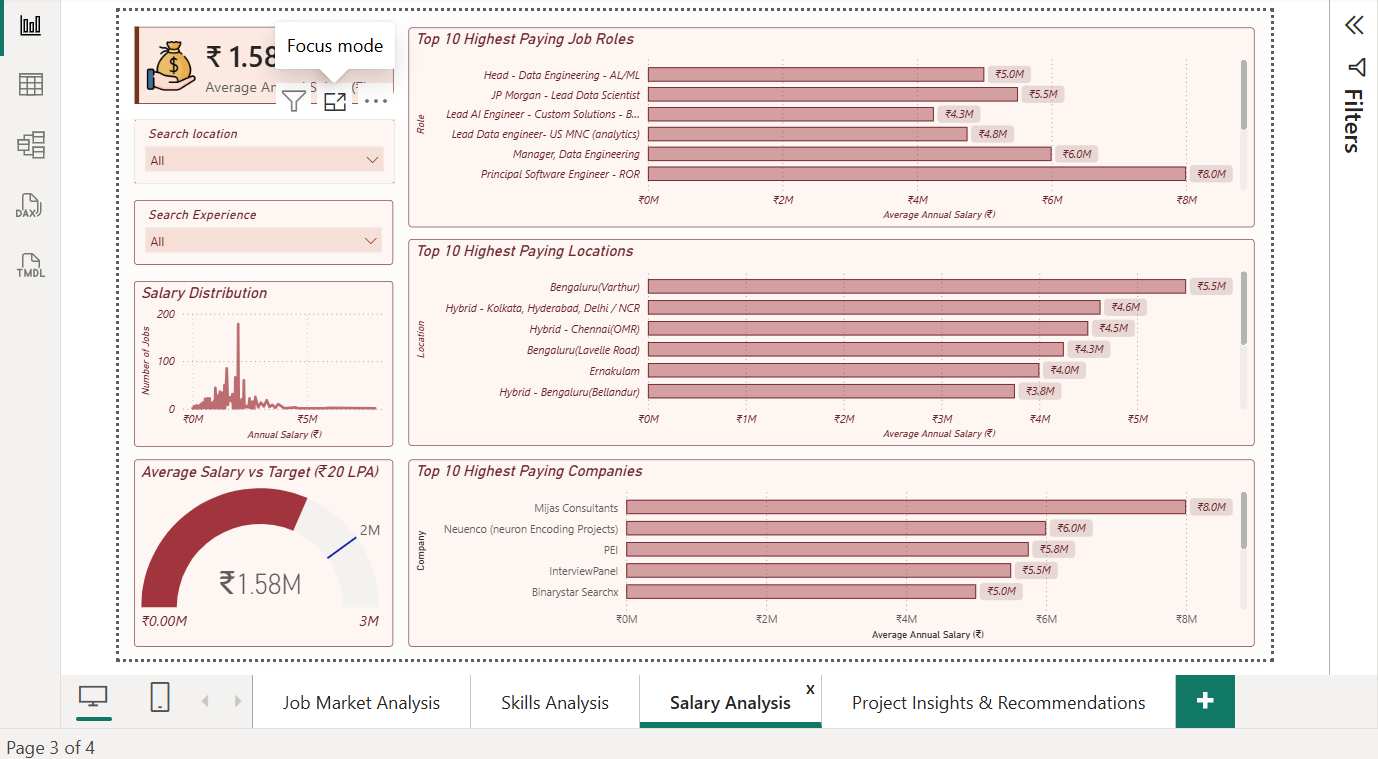

What the dashboard file says about the page in this screenshot:
{"tool":"powerbi","page":{"name":"Salary Analysis","canvas":[1280,720],"ordinal":2},"visuals":[{"type":"cardVisual","fields":{"Data":["Avg(Salary.averageSalary)"]},"box":[0,0,322,120],"z":0},{"type":"barChart","title":"Top 10 Highest Paying Job Roles","fields":{"Category":["Salary.title"],"Y":["Avg(Salary.averageSalary)"]},"box":[322,18,940,222],"z":1000},{"type":"clusteredBarChart","title":"Top 10 Highest Paying Companies","fields":{"Category":["Salary.companyName"],"Y":["Avg(Salary.averageSalary)"]},"box":[322,498,940,208],"z":2000},{"type":"clusteredBarChart","title":"Top 10 Highest Paying Locations","fields":{"Category":["Salary.location"],"Y":["Avg(Salary.averageSalary)"]},"box":[322,254,940,230],"z":3000},{"type":"lineChart","title":"Salary Distribution","fields":{"Category":["Salary.averageSalary"],"Y":["CountNonNull(Salary.averageSalary)"]},"box":[16,300,288,184],"z":4000},{"type":"slicer","fields":{"Values":["Salary.location"]},"box":[16,120,290,72],"z":5000},{"type":"slicer","fields":{"Values":["Salary.experience"]},"box":[16,210,288,72],"z":6000},{"type":"gauge","title":"Average Salary vs Target (₹20 LPA)","fields":{"Y":["Avg(Salary.averageSalary)"],"TargetValue":["Salary.Target Salary"],"MaxValue":["Salary.Maximum Salary Gauge"]},"box":[16,498,288,208],"z":7000}]}

Visuals, with their boxes on the page's 1280x720 design canvas (x1, y1, x2, y2). These are canvas units, not pixel positions in the 1378x759 screenshot, which may show the page scaled, cropped or inside an application window:
cardVisual - Avg(Salary.averageSalary): rect(0, 0, 322, 120)
"Top 10 Highest Paying Job Roles" barChart: rect(322, 18, 1262, 240)
"Top 10 Highest Paying Companies" clusteredBarChart: rect(322, 498, 1262, 706)
"Top 10 Highest Paying Locations" clusteredBarChart: rect(322, 254, 1262, 484)
"Salary Distribution" lineChart: rect(16, 300, 304, 484)
slicer - Salary.location: rect(16, 120, 306, 192)
slicer - Salary.experience: rect(16, 210, 304, 282)
"Average Salary vs Target (₹20 LPA)" gauge: rect(16, 498, 304, 706)
